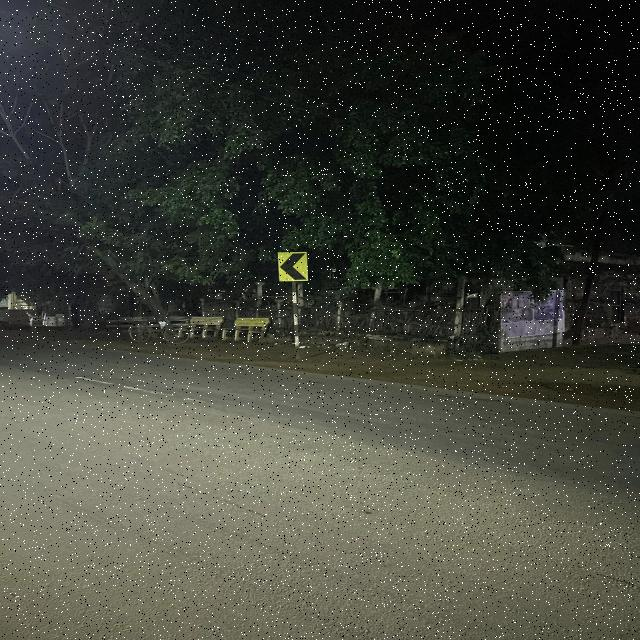chevron_left: (278, 251, 311, 283)
